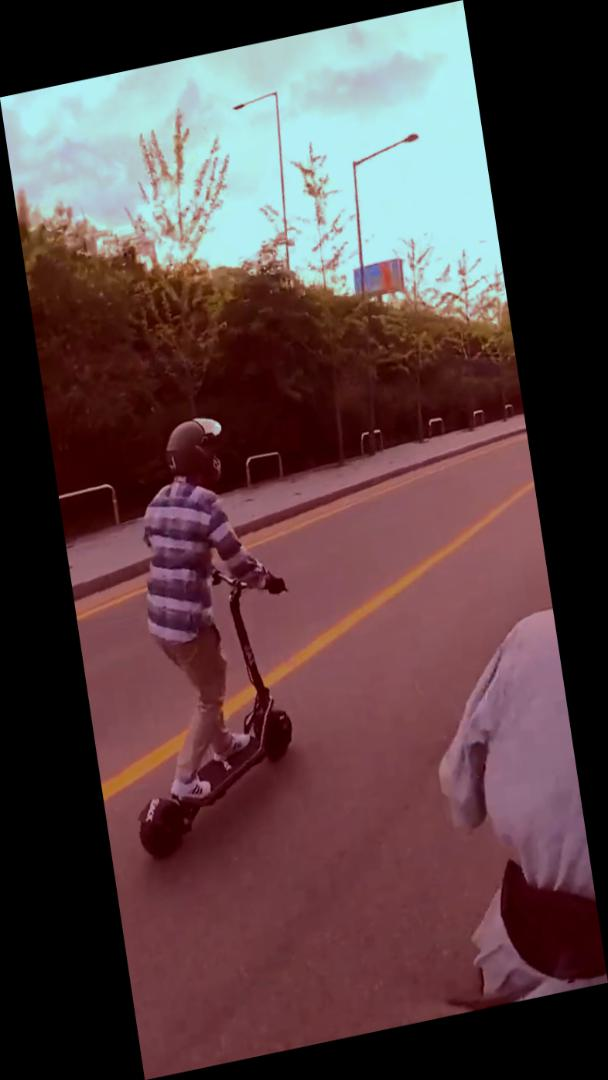helmet: (79, 401, 327, 866)
